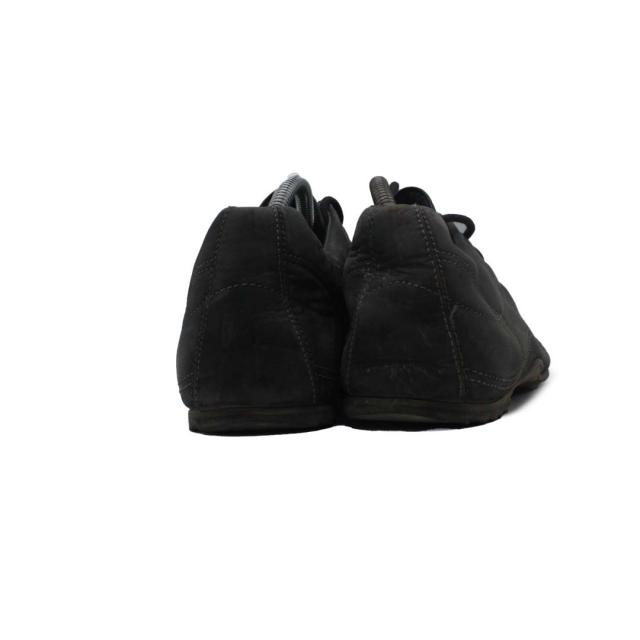heel: (185, 183, 342, 400), (349, 183, 511, 393)
midsole: (177, 392, 525, 436)
